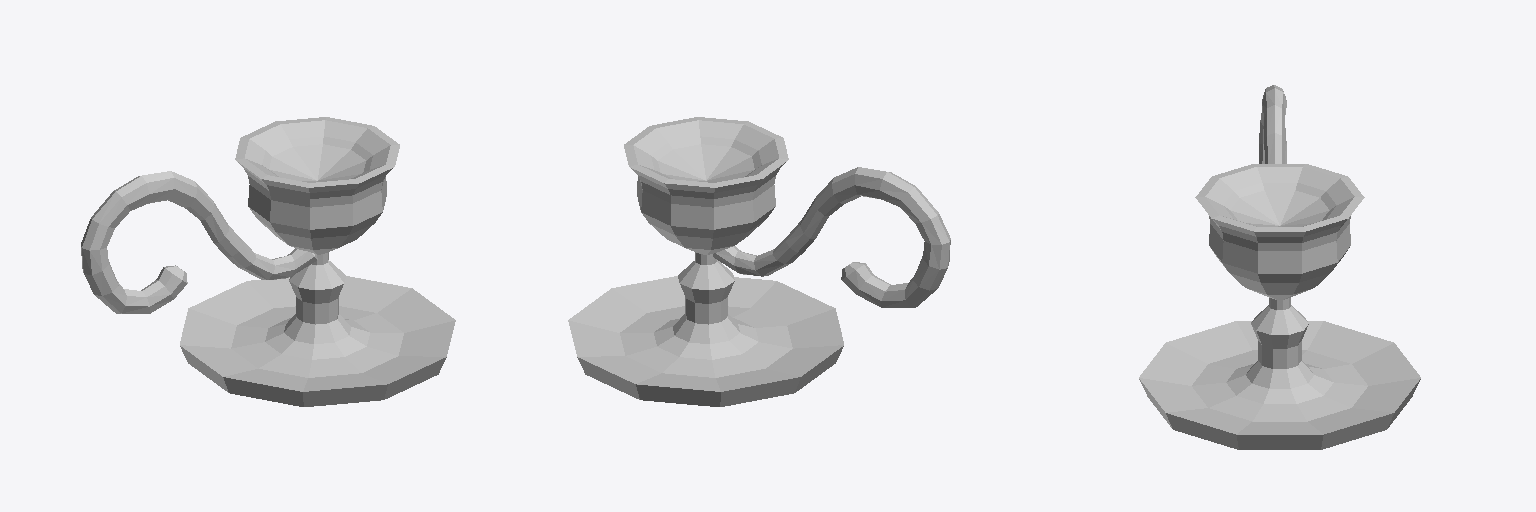
File: CandleStick.obj
3 views of the same model, side by side, from view 1: azimuth 30°, elevation 25°; view 2: azimuth 150°, elevation 25°; view 3: azimuth 270°, elevation 25° (orthographic).
Parts seen in each view (by area): view 1: CandleStick_Cylinder.081; view 2: CandleStick_Cylinder.081; view 3: CandleStick_Cylinder.081.
Part boxes in pixels (bbox=[...]): CandleStick_Cylinder.081: bbox=[81, 117, 455, 406]; CandleStick_Cylinder.081: bbox=[568, 117, 950, 406]; CandleStick_Cylinder.081: bbox=[1139, 85, 1420, 449].
Bounding box in the file's own units: 0.2609 × 0.1552 × 0.1794.